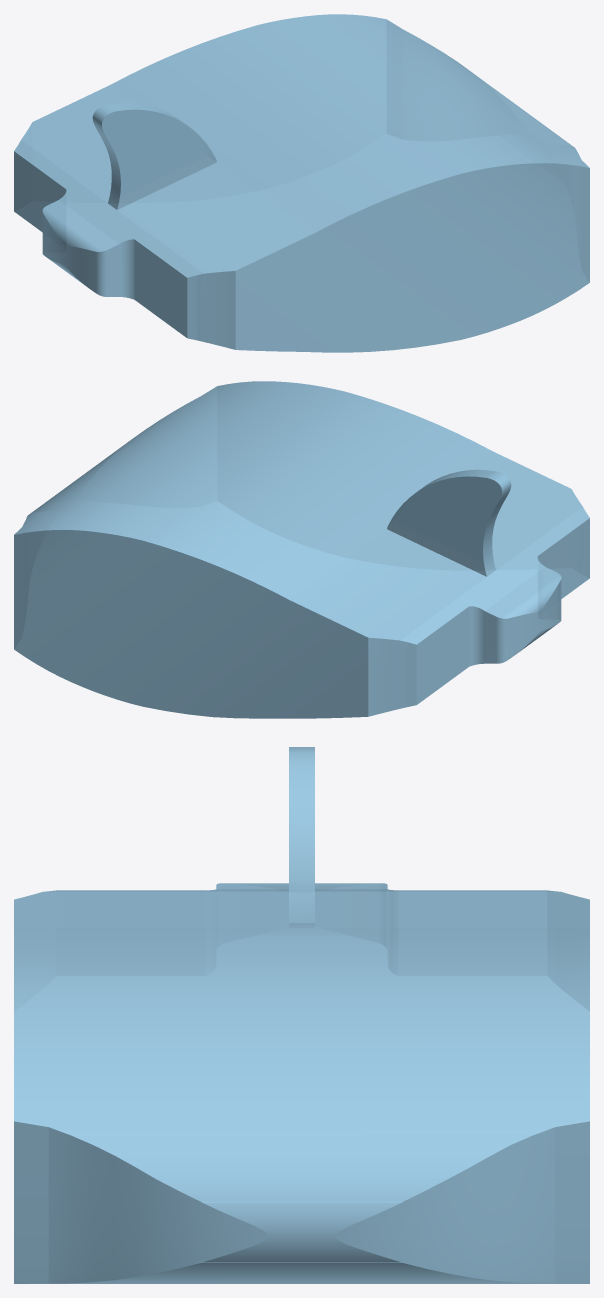
File: Collision-Body.dae
3 views of the same model, one above another, from view 1: azimuth 30°, elevation 25°; view 2: azimuth 150°, elevation 25°; view 3: azimuth 270°, elevation 25° (orthographic). The views are drawn at different scales.
Parts seen in each view (by area): view 1: ID2; view 2: ID2; view 3: ID2.
Part boxes in pixels (x1=…): ID2: x1=14, y1=14, x2=589, y2=352; ID2: x1=14, y1=381, x2=589, y2=718; ID2: x1=14, y1=747, x2=589, y2=1283.
Bounding box in the file's own units: 0.5958 × 0.4435 × 0.2625.
